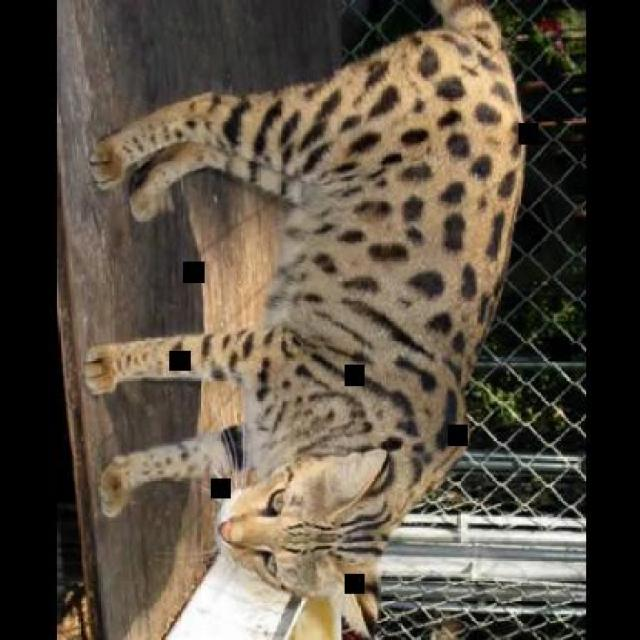unauthorized: (80, 0, 526, 638)
